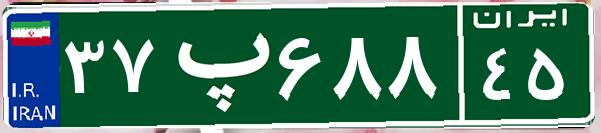3: (57, 26, 110, 107)
4: (475, 38, 525, 113)
5: (525, 38, 570, 115)
6: (273, 28, 330, 110)
7: (110, 28, 158, 105)
8: (385, 28, 445, 110), (330, 28, 385, 110)
پ: (158, 15, 273, 115)
